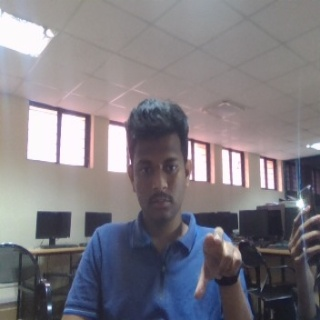No: (193, 225, 243, 301)
